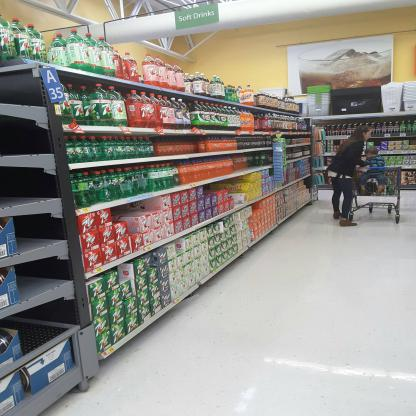Void: (2, 170, 62, 200), (5, 118, 53, 154), (19, 315, 79, 337), (15, 261, 62, 286), (5, 75, 42, 100), (21, 219, 55, 242), (127, 203, 160, 211), (113, 208, 126, 220)
